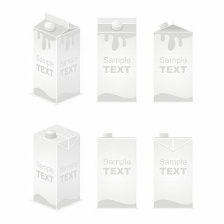carton: (24, 120, 87, 213), (27, 7, 83, 105), (149, 14, 198, 107), (92, 14, 140, 105), (147, 130, 198, 214), (92, 128, 142, 211)
